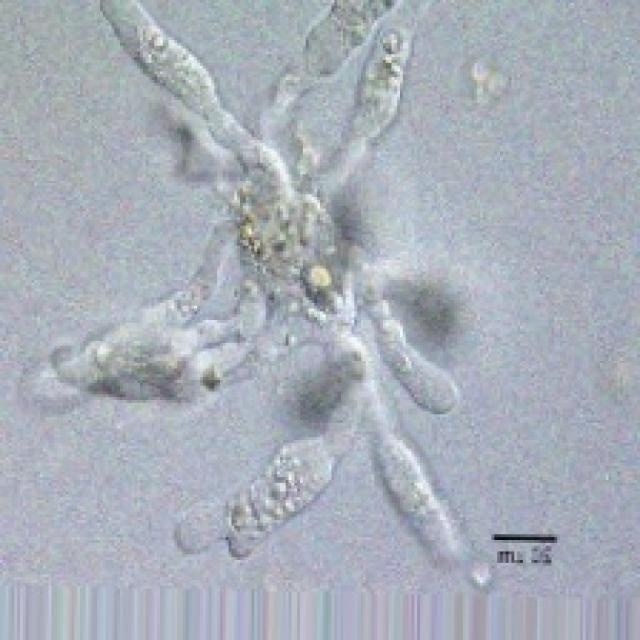Amoeba: (43, 0, 500, 594)
